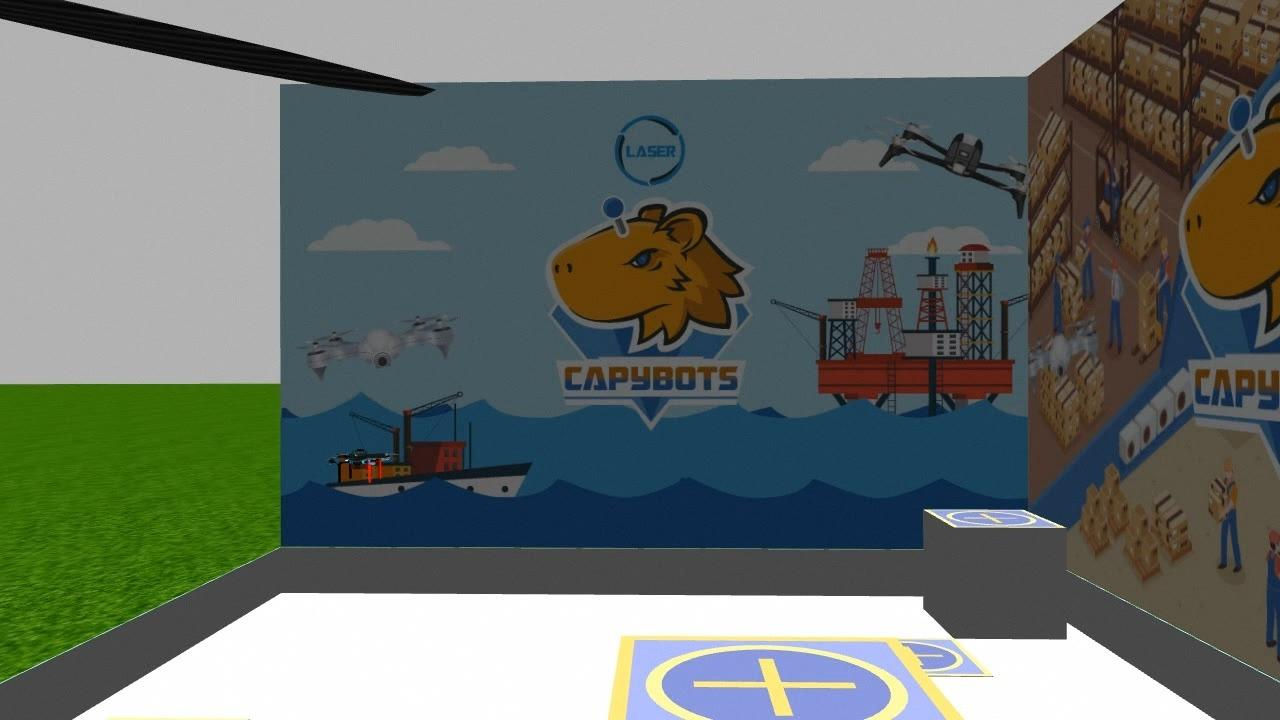UAV: (318, 436, 401, 492)
